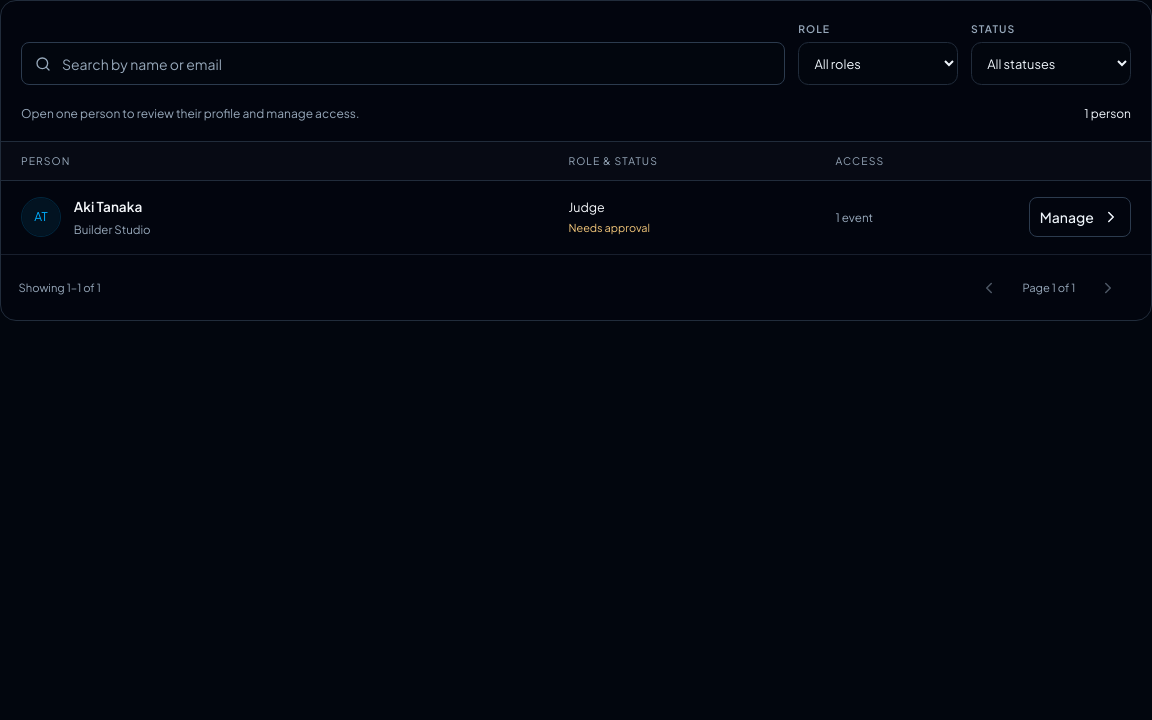
admin people directory › keeps event changes local until Save access and reconciles successful server updates
Later steps or results of the test are not shown.
Step 1. Click the button with aria-label "Manage Aki Tanaka" → [1080, 217], box [1029,197,1131,237]
(page scrolled)
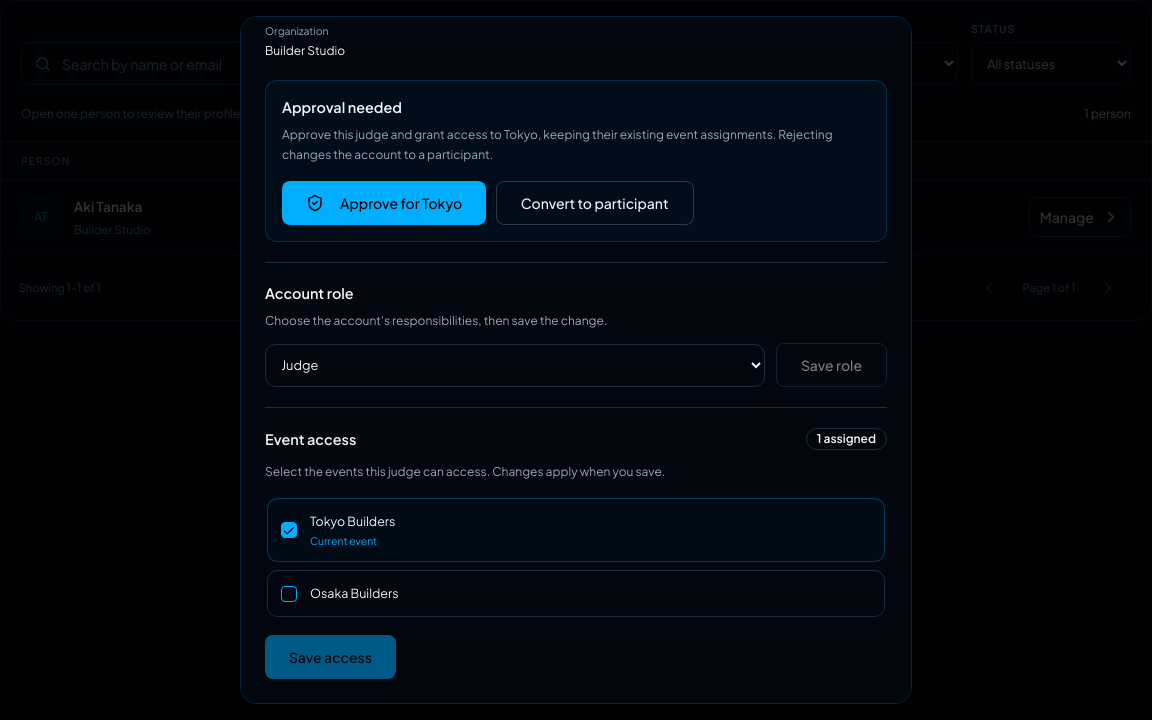
Expected: the button "Save access" is disabled, [265,635,396,679]
Step 2. Click the checkbox named "Osaka Builders" next to "Osaka Builders" → [289, 594], box [281,586,297,602]
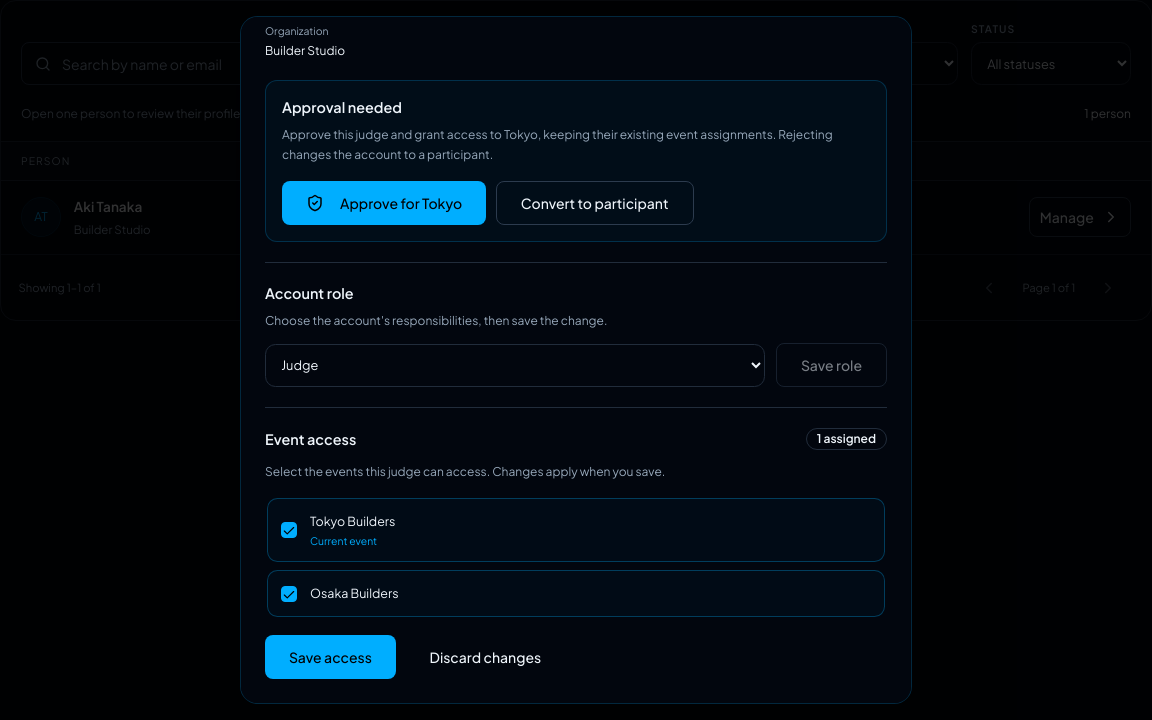
Expected: the button "Save access" is enabled, [265,635,396,679]
